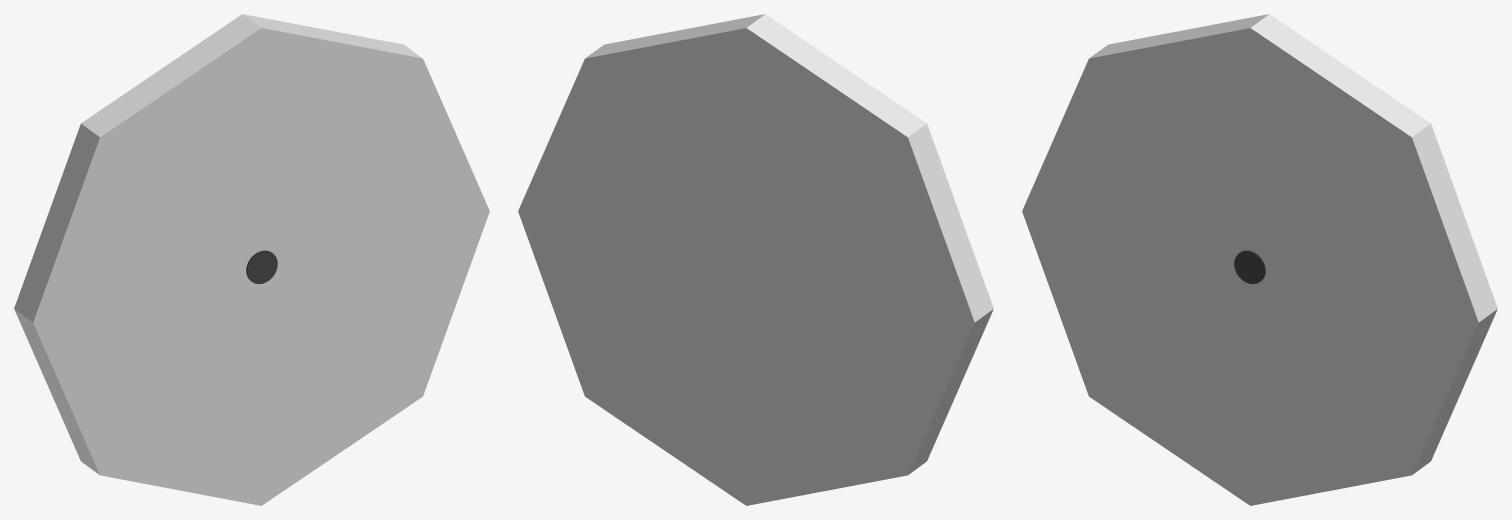
Rendered from Countdown_Pirate_Board.glb.
The picture shows the model from 3 angles, left to right: view 1: azimuth 30°, elevation 25°; view 2: azimuth 150°, elevation 25°; view 3: azimuth 330°, elevation 25°; orthographic projection.
Visible parts, largest first — view 1: Cylinder.011, Cylinder.010; view 2: Cylinder.011; view 3: Cylinder.011, Cylinder.010.
Part boxes in pixels (x1=…): Cylinder.011: x1=14, y1=14, x2=489, y2=505; Cylinder.010: x1=246, y1=250, x2=277, y2=283; Cylinder.011: x1=518, y1=14, x2=993, y2=505; Cylinder.011: x1=1022, y1=14, x2=1497, y2=505; Cylinder.010: x1=1234, y1=250, x2=1265, y2=283.
Size of the model in its own units: 0.5421 by 0.5421 by 0.0412.
Materials: 2 (2 with a texture image).
